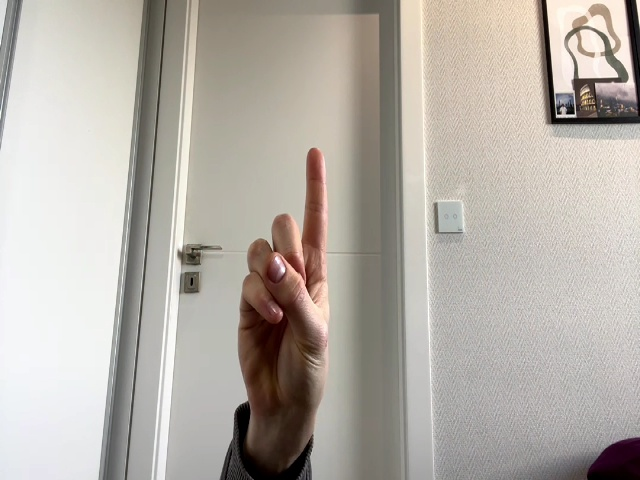Z: (238, 148, 329, 418)
